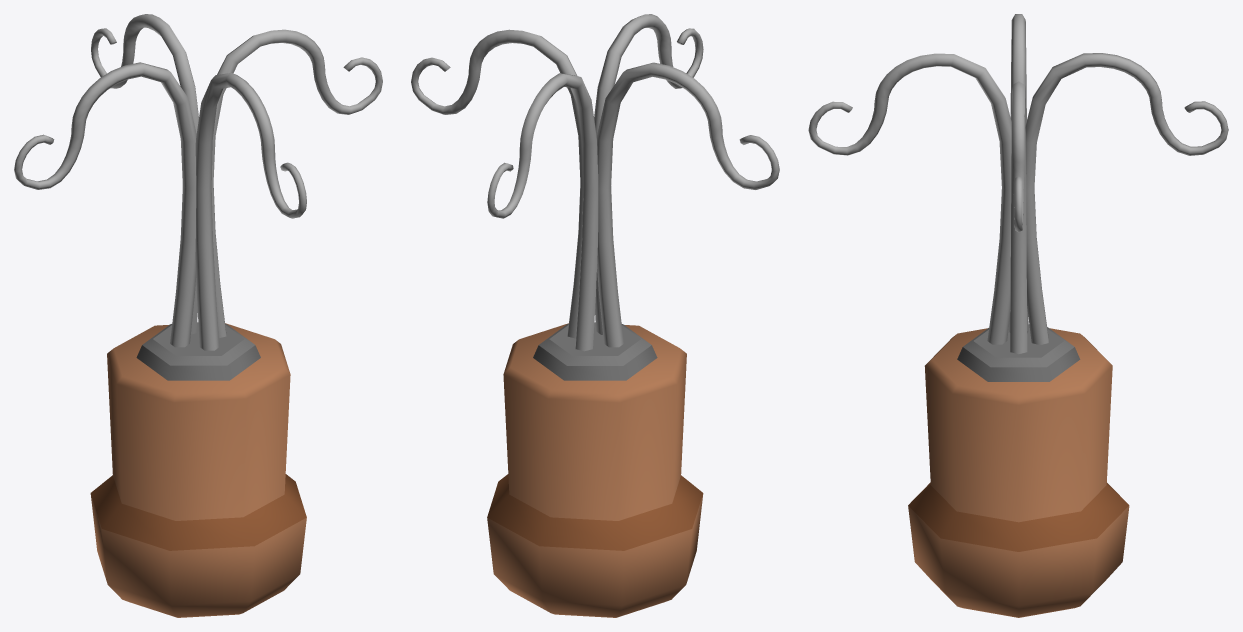
Rendered from StandingHanger.fbx.
3 views of the same model, side by side, from view 1: azimuth 30°, elevation 25°; view 2: azimuth 150°, elevation 25°; view 3: azimuth 270°, elevation 25° (orthographic).
Visible parts, largest first — view 1: StandingHanger; view 2: StandingHanger; view 3: StandingHanger.
Boxes of the visible parts, bbox=[...] form: StandingHanger: bbox=[14, 14, 382, 617]; StandingHanger: bbox=[411, 14, 779, 617]; StandingHanger: bbox=[808, 14, 1228, 617].
Bounding box in the file's own units: 1.06 × 1.47 × 1.06.
